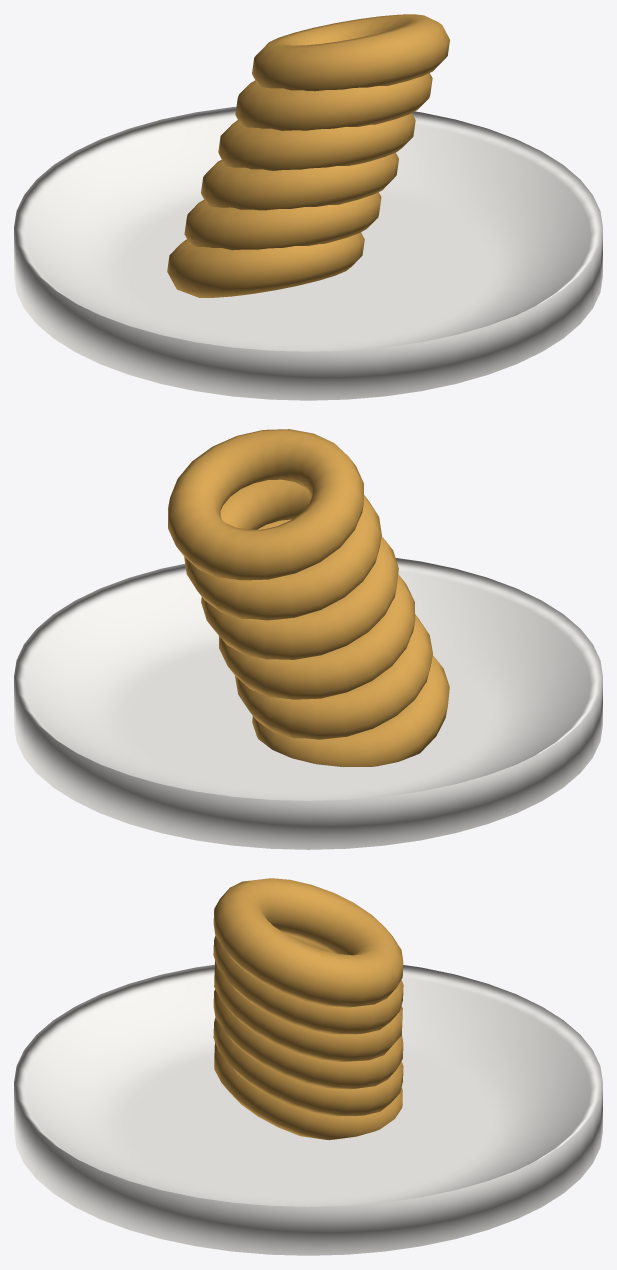
Rendered from aneis-card.glb.
3 views of the same model, one above another, from view 1: azimuth 30°, elevation 25°; view 2: azimuth 150°, elevation 25°; view 3: azimuth 270°, elevation 25° (orthographic).
Size of the model in its own units: 0.24 by 0.1224 by 0.24.
